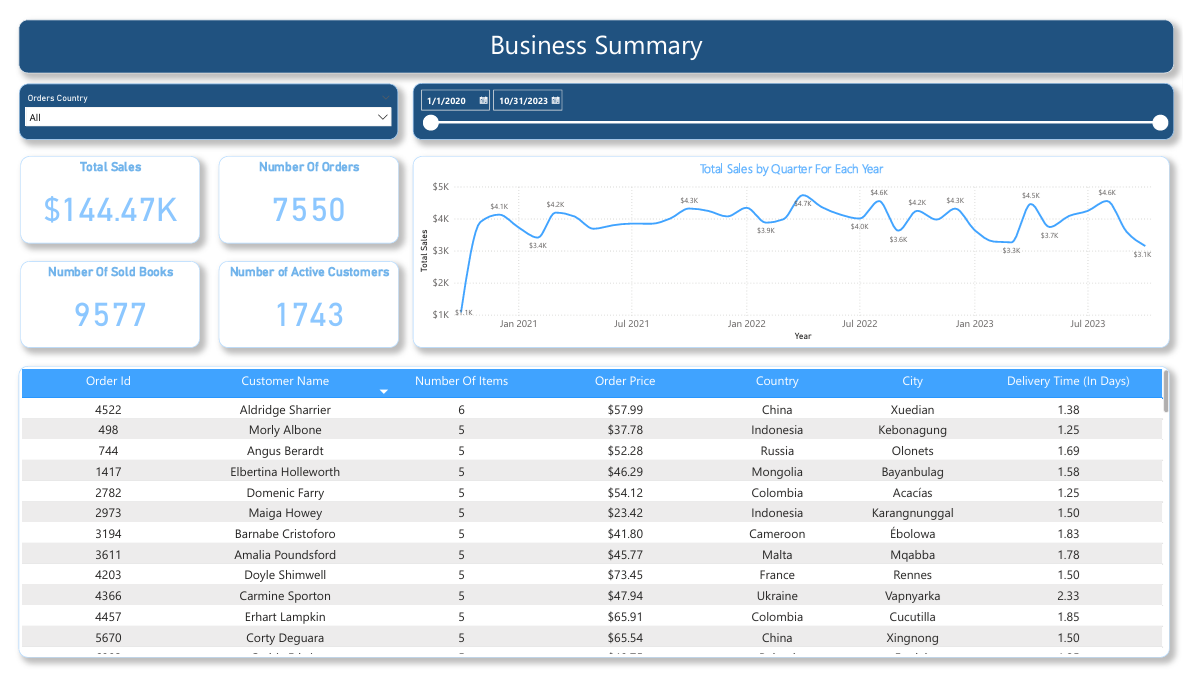

This screenshot's page, from the dashboard's own definition file:
{"tool":"powerbi","page":{"name":"Overview","canvas":[1920,1080],"ordinal":0},"visuals":[{"type":"tableEx","fields":{"Values":["Fact_sales.order_id_bk_dd","Dim_Customers.FullName","Dim_Books.book_id_sk","Fact_sales.Gross Sales","Dim_Addresses.country_name","Dim_Addresses.city","Avg(Shipping_Average_Time.Rounded_Time)"]},"box":[12.9,581.4,1885.7,477.1],"z":0},{"type":"card","title":"Number of Active Customers","fields":{"Values":["Count(Fact_sales.customer_id_fk)"]},"box":[341.4,408.6,294.3,142.9],"z":1000},{"type":"card","title":"Total Sales","fields":{"Values":["Fact_sales.Total Sales"]},"box":[15.7,237.1,294.3,142.9],"z":2000},{"type":"card","title":"Number Of Orders","fields":{"Values":["Count(Fact_sales.order_id_bk_dd)"]},"box":[341.4,237.1,294.3,142.9],"z":3000},{"type":"card","title":"Number Of Sold Books","fields":{"Values":["Count(Fact_sales.books_id_fk)"]},"box":[15.7,408.6,294.3,142.9],"z":4000},{"type":"textbox","box":[13.4,13.4,1892.5,88.1],"z":5000},{"type":"slicer","fields":{"Values":["Dim_Date.Date"]},"box":[658.6,117.1,1247.1,92.9],"z":6000},{"type":"slicer","fields":{"Values":["Dim_Addresses.country_name"]},"box":[13.8,117.5,621.2,92.5],"z":7000},{"type":"lineChart","title":"Total Sales by Quarter For Each Year","fields":{"Y":["Fact_sales.Total Sales"],"Category":["Dim_Date.Date.Variation.Date Hierarchy.Year","Dim_Date.Date.Variation.Date Hierarchy.Quarter","Dim_Date.Date.Variation.Date Hierarchy.Month","Dim_Date.Date.Variation.Date Hierarchy.Day"]},"box":[658.6,237.1,1240,314.3],"z":8000}]}

Visuals, with their boxes in screenshot pixels (x1, y1, x2, y2), scaled from the page's 1920x1080 canvas onto the 1192x680 screenshot:
tableEx - Fact_sales.order_id_bk_dd x Dim_Customers.FullName: [8, 366, 1179, 666]
"Number of Active Customers" card: [212, 257, 395, 347]
"Total Sales" card: [10, 149, 192, 239]
"Number Of Orders" card: [212, 149, 395, 239]
"Number Of Sold Books" card: [10, 257, 192, 347]
textbox: [8, 8, 1183, 64]
slicer - Dim_Date.Date: [409, 74, 1183, 132]
slicer - Dim_Addresses.country_name: [9, 74, 394, 132]
"Total Sales by Quarter For Each Year" lineChart: [409, 149, 1179, 347]
